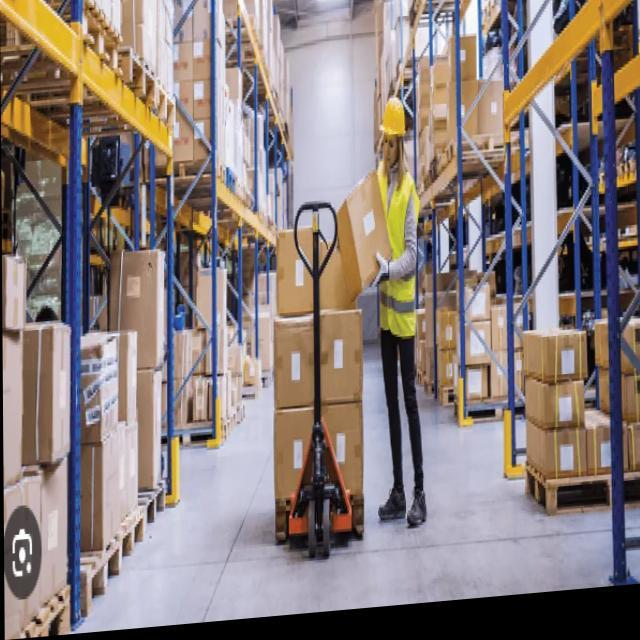hard_hat: (377, 90, 408, 171)
shoes: (377, 471, 431, 532)
vest: (370, 154, 423, 348)
